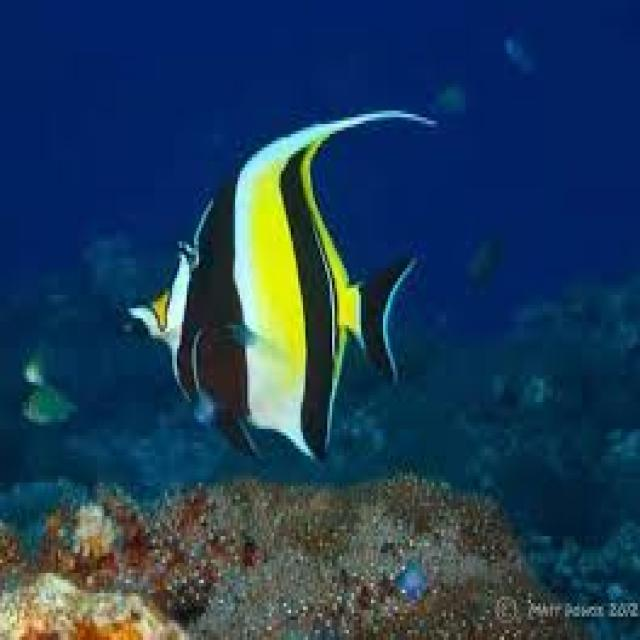MorishIdol: (114, 104, 439, 466)
